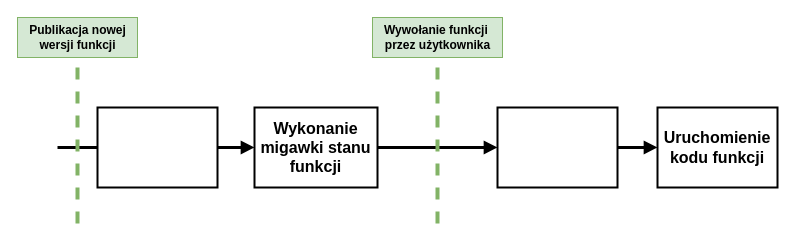
The diagram is 796 pixels wide and 248 high, and some of its shapes have lost their labels. Each missing label, with the centre of its shape:
"Inicjalizacja funkcji" belongs at point (157, 147).
"Odtworzenie stanu funkcji z migawki" belongs at point (557, 147).
